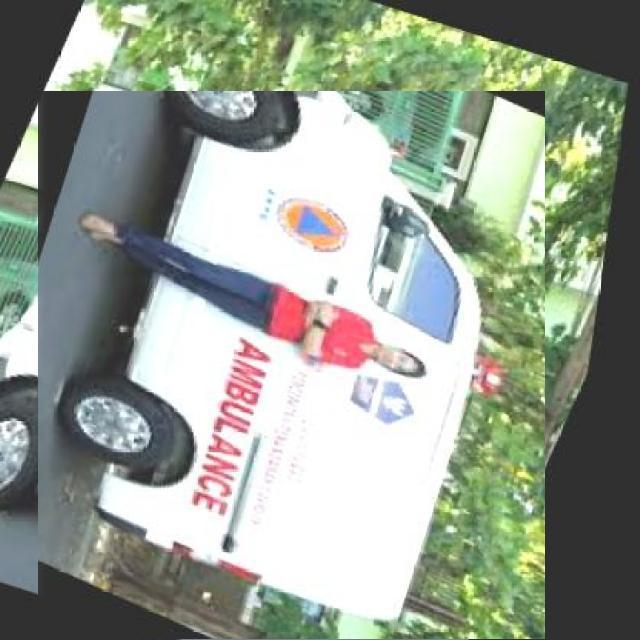emergency-vehicle: (18, 110, 564, 640)
